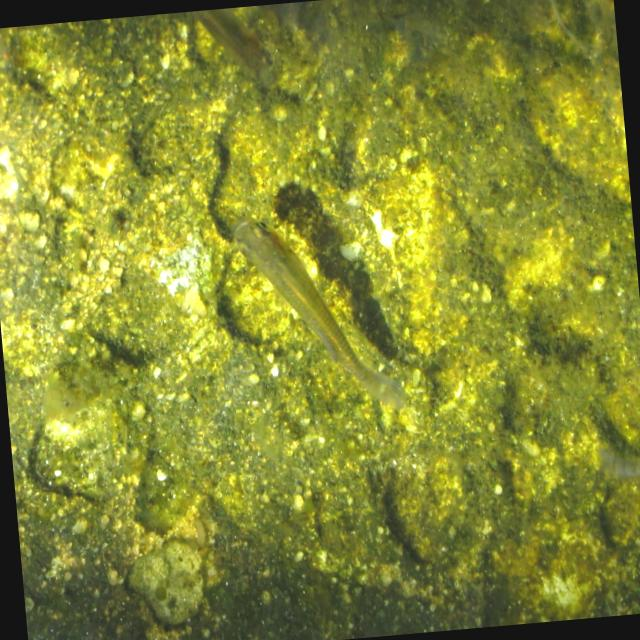Sivrisinek Baligi: (226, 200, 408, 425)
